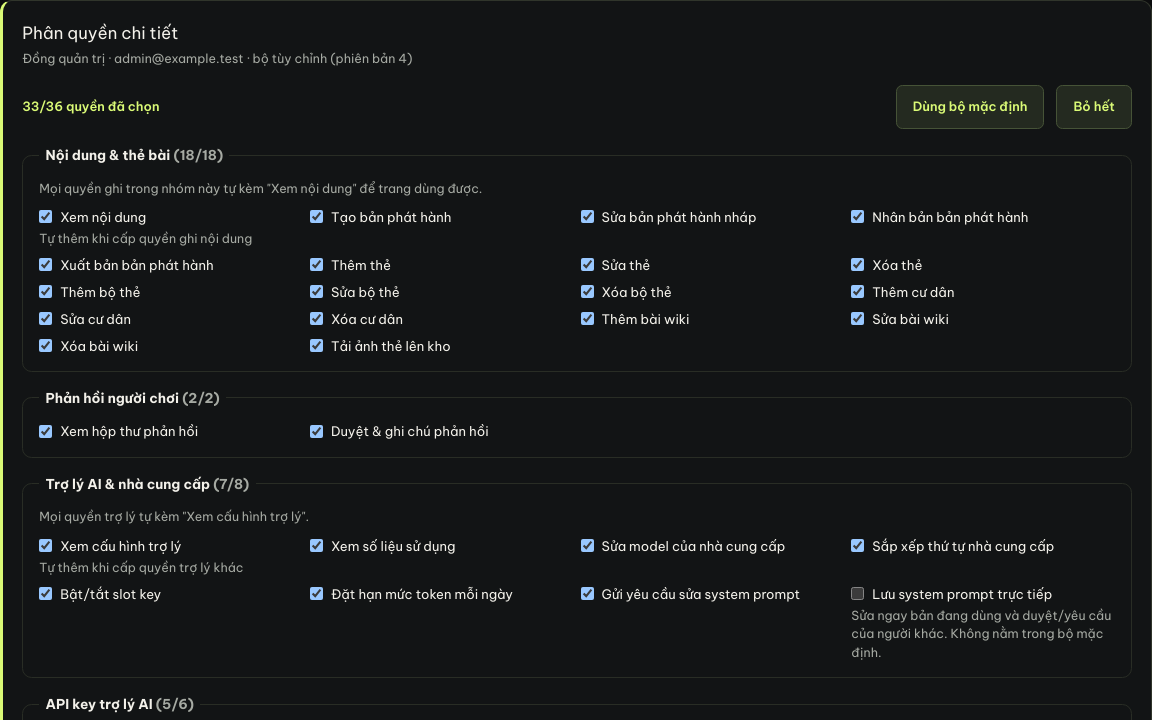
Test: AdminPermissionEditorComponent › announces the read rights the server adds so the stored set is never a surprise
Step 1. Click the checkbox labelled "Xem nội dung" → x=46, y=217, box [39, 210, 52, 223]
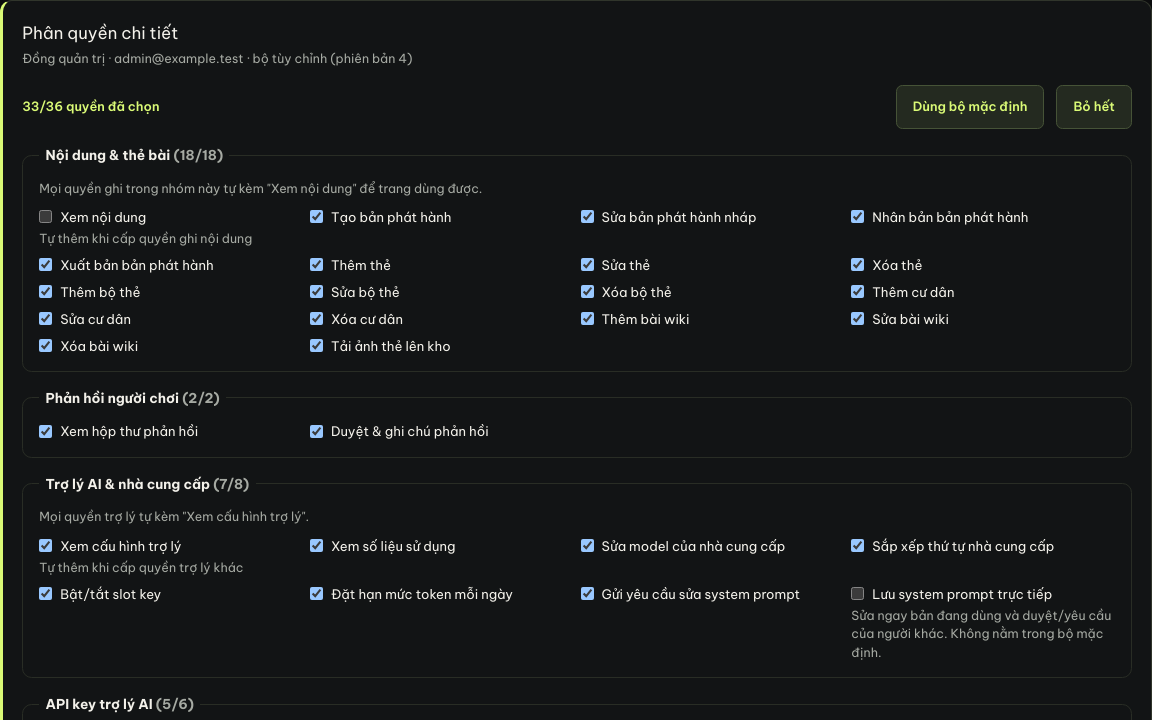
Step 2. Click the checkbox labelled "Xem cấu hình trợ lý" → x=46, y=546, box [39, 539, 52, 552]
(page scrolled)
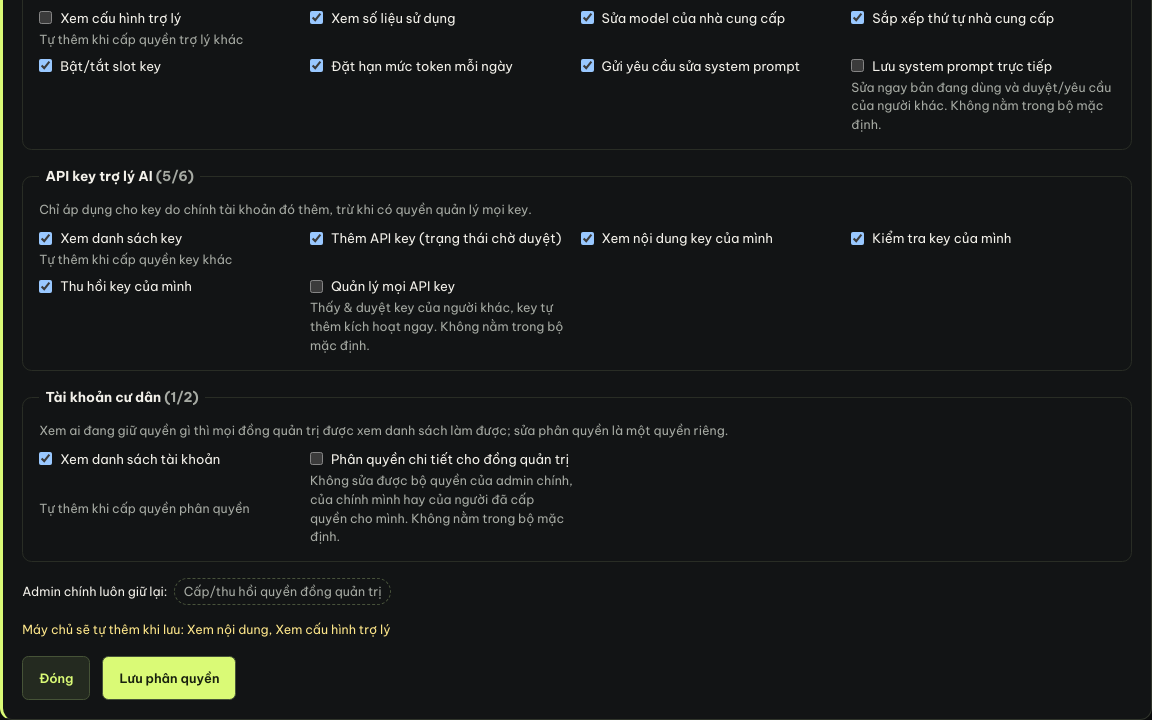
Expected: the element with class "implied" does not show "Sửa thẻ"
Now the message with class "implied" shows "Xem nội dung", box [22, 622, 391, 638]
Now the message with class "implied" shows "Xem cấu hình trợ lý", box [22, 622, 391, 638]
